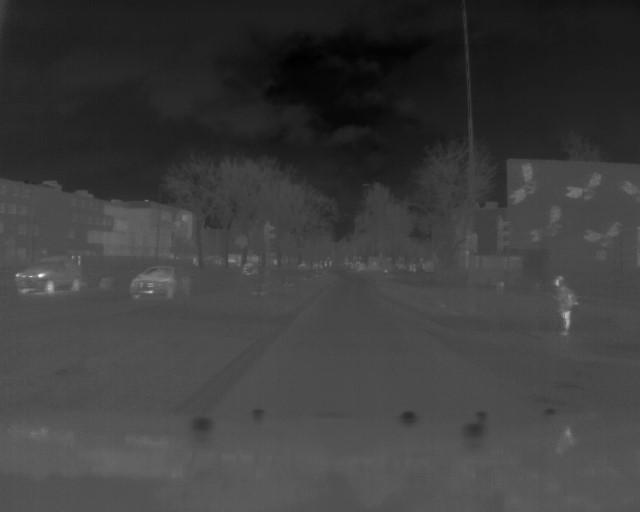car: (13, 253, 87, 294), (130, 264, 188, 298)
person: (551, 271, 578, 340)
